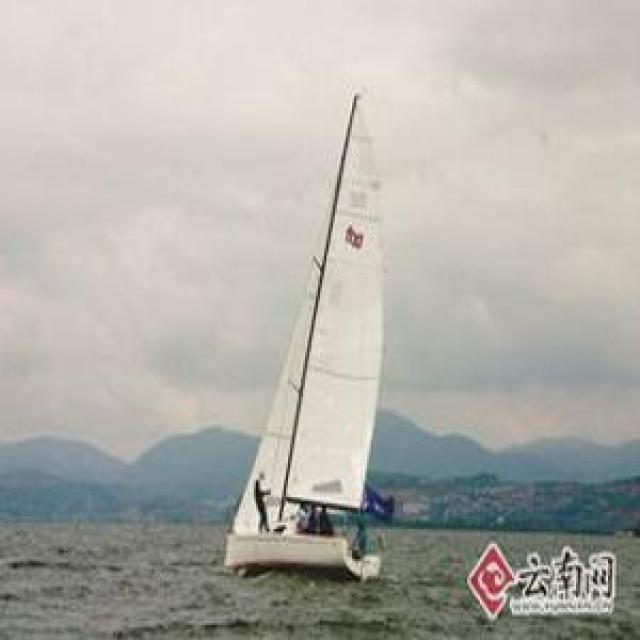sailboat: (224, 88, 398, 579)
